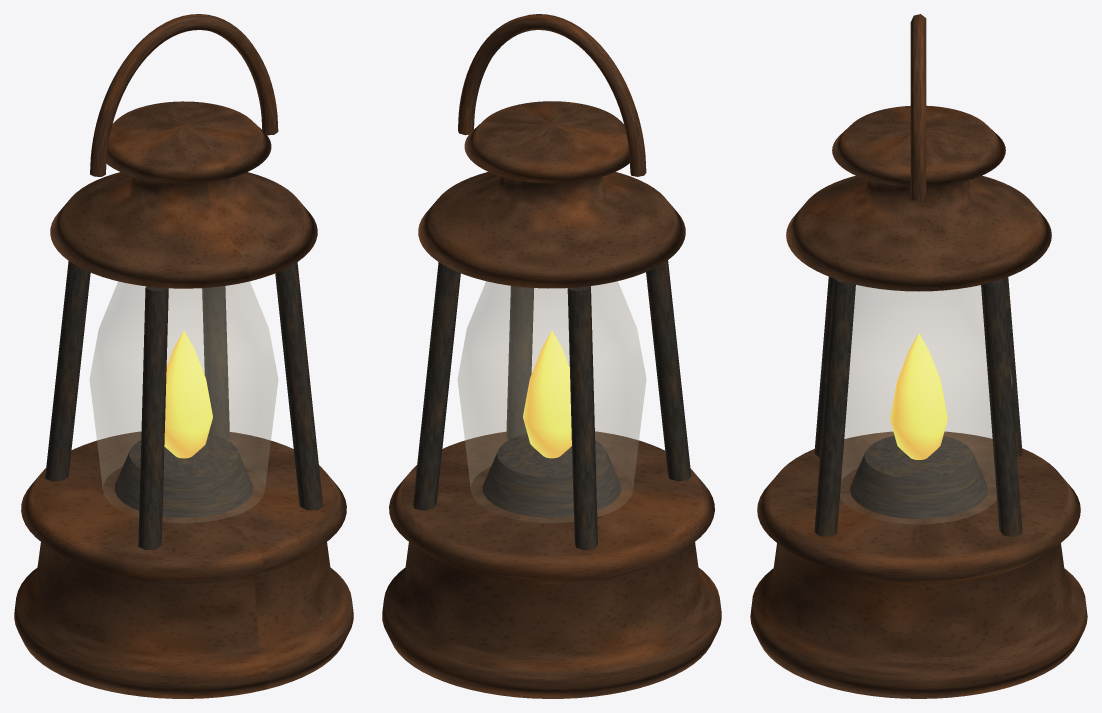
Rendered from lantern.glb.
3 views of the same model, side by side, from view 1: azimuth 30°, elevation 25°; view 2: azimuth 150°, elevation 25°; view 3: azimuth 270°, elevation 25° (orthographic).
Parts seen in each view (by area): view 1: Copper lantern with glass; view 2: Copper lantern with glass; view 3: Copper lantern with glass.
Boxes of the visible parts, bbox=[...] form: Copper lantern with glass: bbox=[14, 14, 353, 698]; Copper lantern with glass: bbox=[382, 14, 721, 698]; Copper lantern with glass: bbox=[750, 14, 1087, 698].
Bounding box in the file's own units: 0.198 × 0.3947 × 0.198.
5 materials, 2 textured.
